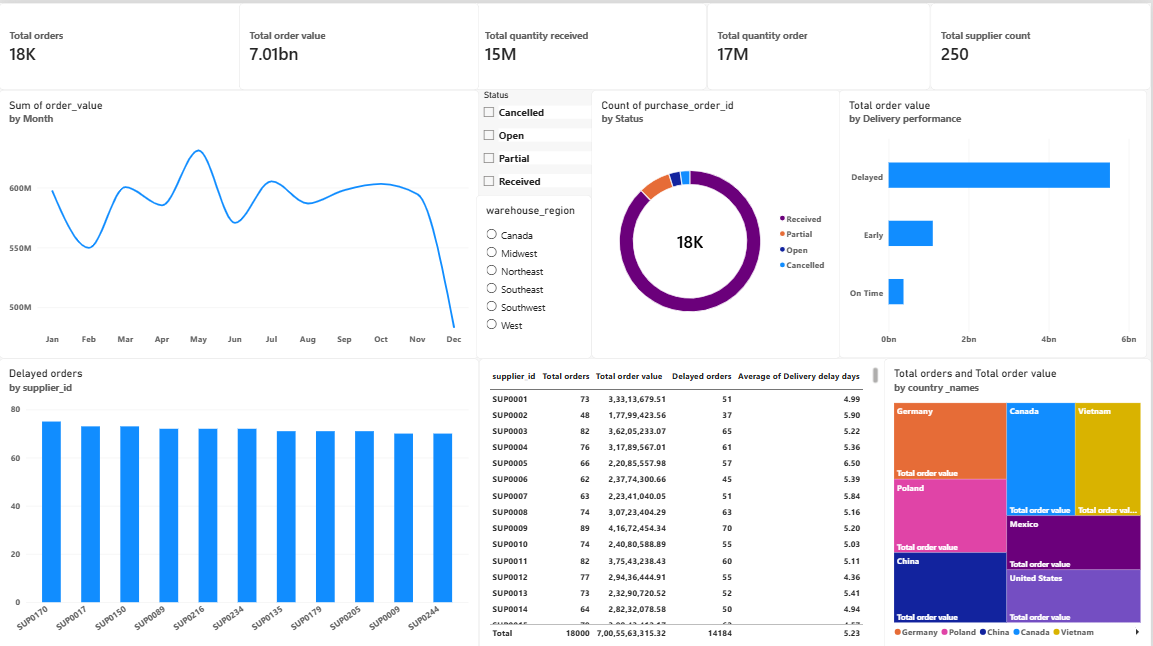

Layout of this report page (visuals, bound fields, positions):
{"tool":"powerbi","page":{"name":"Page 1","canvas":[1920,1080],"ordinal":0},"visuals":[{"type":"cardVisual","fields":{"Data":["Measure.Total orders"]},"box":[0,0,425,145],"z":0},{"type":"cardVisual","fields":{"Data":["Measure.Total quantity order"]},"box":[1180,0,372.5,145],"z":1},{"type":"cardVisual","fields":{"Data":["Measure.Total quantity received"]},"box":[792.5,0,387.5,145],"z":2},{"type":"cardVisual","fields":{"Data":["Measure.Total supplier count"]},"box":[1552.5,0,367.5,145],"z":3},{"type":"cardVisual","fields":{"Data":["Measure.Total order value"]},"box":[400,0,400,145],"z":4},{"type":"lineChart","fields":{"Category":["cleaned data set.Month"],"Y":["Sum(cleaned data set.order_value)"]},"box":[0,145,800,447.5],"z":5},{"type":"donutChart","fields":{"Category":["cleaned data set.Status"],"Y":["Count(cleaned data set.purchase_order_id)"]},"box":[987.5,145,415,447.5],"z":6},{"type":"barChart","fields":{"Category":["cleaned data set.Delivery performance"],"Y":["Measure.Total order value"]},"box":[1400,145,513.3,446.7],"z":7},{"type":"columnChart","fields":{"Category":["cleaned data set.supplier_id"],"Y":["Measure.Delayed orders"]},"box":[0,592.5,800,487.5],"z":8},{"type":"tableEx","fields":{"Values":["cleaned data set.supplier_id","Measure.Total orders","Measure.Total order value","Measure.Delayed orders","Avg(cleaned data set.Delivery delay days)"]},"box":[800,592.5,682.5,487.5],"z":9},{"type":"treemap","fields":{"Group":["cleaned data set.country _names"],"Values":["Measure.Total orders","Measure.Total order value"]},"box":[1475,592.5,445,487.5],"z":10},{"type":"slicer","fields":{"Values":["cleaned data set.Status"]},"box":[800,145,187.5,205],"z":11},{"type":"listSlicer","fields":{"Values":["cleaned data set.warehouse_region"]},"box":[795,320,192.5,272.5],"z":12}]}

Visuals, with their boxes in screenshot pixels (x1, y1, x2, y2), scaled from the page's 1920x1080 canvas onto the 1153x646 screenshot:
cardVisual - Measure.Total orders: left=0, top=0, right=255, bottom=87
cardVisual - Measure.Total quantity order: left=709, top=0, right=932, bottom=87
cardVisual - Measure.Total quantity received: left=476, top=0, right=709, bottom=87
cardVisual - Measure.Total supplier count: left=932, top=0, right=1152, bottom=87
cardVisual - Measure.Total order value: left=240, top=0, right=480, bottom=87
lineChart - cleaned data set.Month x Sum(cleaned data set.order_value): left=0, top=87, right=480, bottom=354
donutChart - cleaned data set.Status x Count(cleaned data set.purchase_order_id): left=593, top=87, right=842, bottom=354
barChart - cleaned data set.Delivery performance x Measure.Total order value: left=841, top=87, right=1149, bottom=354
columnChart - cleaned data set.supplier_id x Measure.Delayed orders: left=0, top=354, right=480, bottom=645
tableEx - cleaned data set.supplier_id x Measure.Total orders: left=480, top=354, right=890, bottom=645
treemap - cleaned data set.country _names x Measure.Total orders: left=886, top=354, right=1152, bottom=645
slicer - cleaned data set.Status: left=480, top=87, right=593, bottom=209
listSlicer - cleaned data set.warehouse_region: left=477, top=191, right=593, bottom=354
